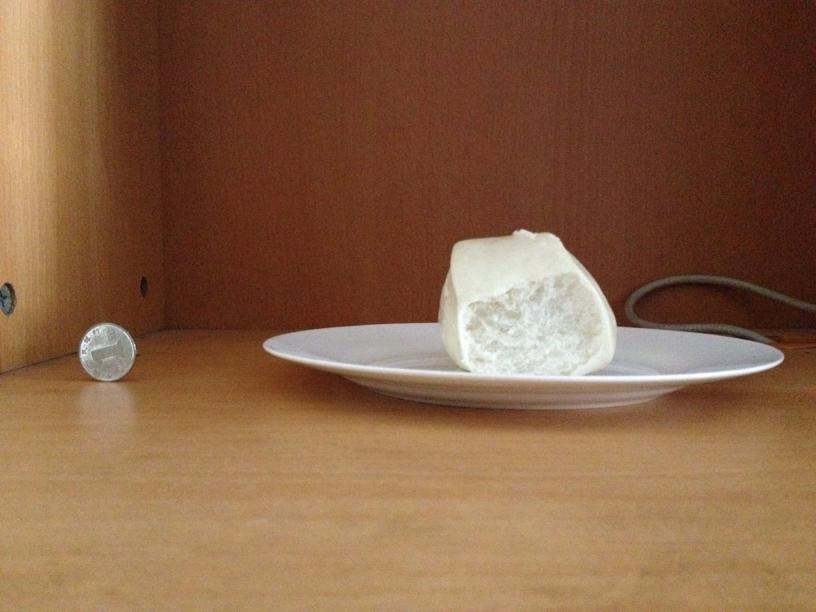bun: (440, 231, 616, 375)
coin: (79, 322, 135, 381)
